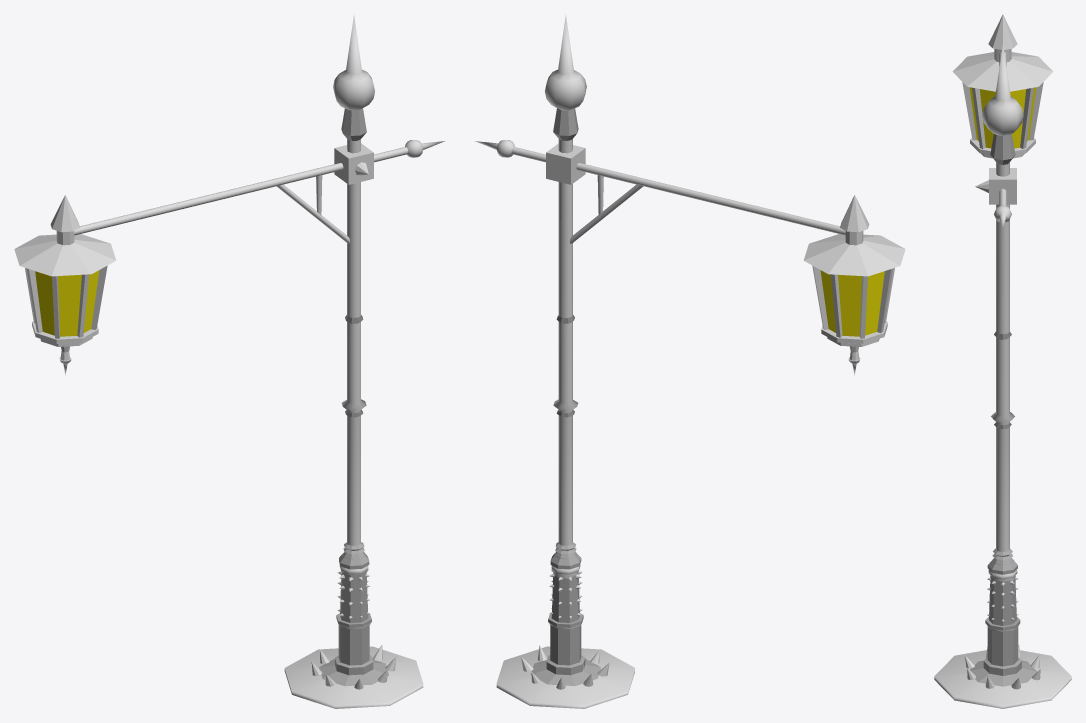
Rendered from poste.fbx.
3 renders of one model, left to right at view 1: azimuth 30°, elevation 25°; view 2: azimuth 150°, elevation 25°; view 3: azimuth 270°, elevation 25°, orthographic. The views are drawn at different scales.
Visible parts, largest first — view 1: poste, luz; view 2: poste, luz; view 3: poste, luz.
Part boxes in pixels (left/top/right/bottom): poste: left=14, top=14, right=444, bottom=708; luz: left=35, top=270, right=99, bottom=336; poste: left=475, top=14, right=905, bottom=708; luz: left=820, top=270, right=884, bottom=336; poste: left=934, top=14, right=1071, bottom=708; luz: left=969, top=87, right=1036, bottom=148.
Size of the model in its own units: 353 by 527 by 103.
